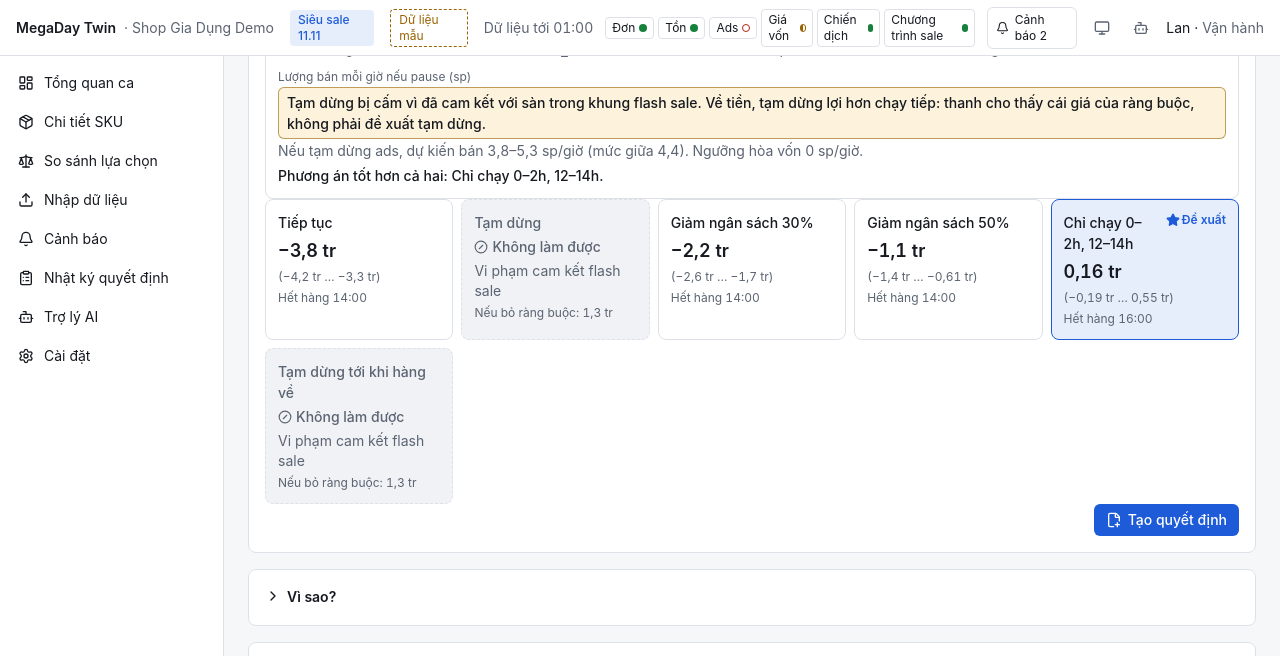
it: Compare screen · CD002 on 11.11 (API snapshot fixture) › decision form is disabled in fixture mode with the reason shown
The width and height of the screenshot is (1280, 656).
(page scrolled)
Click the button "Tạo quyết định": (1166, 520) [1094, 504, 1239, 536]
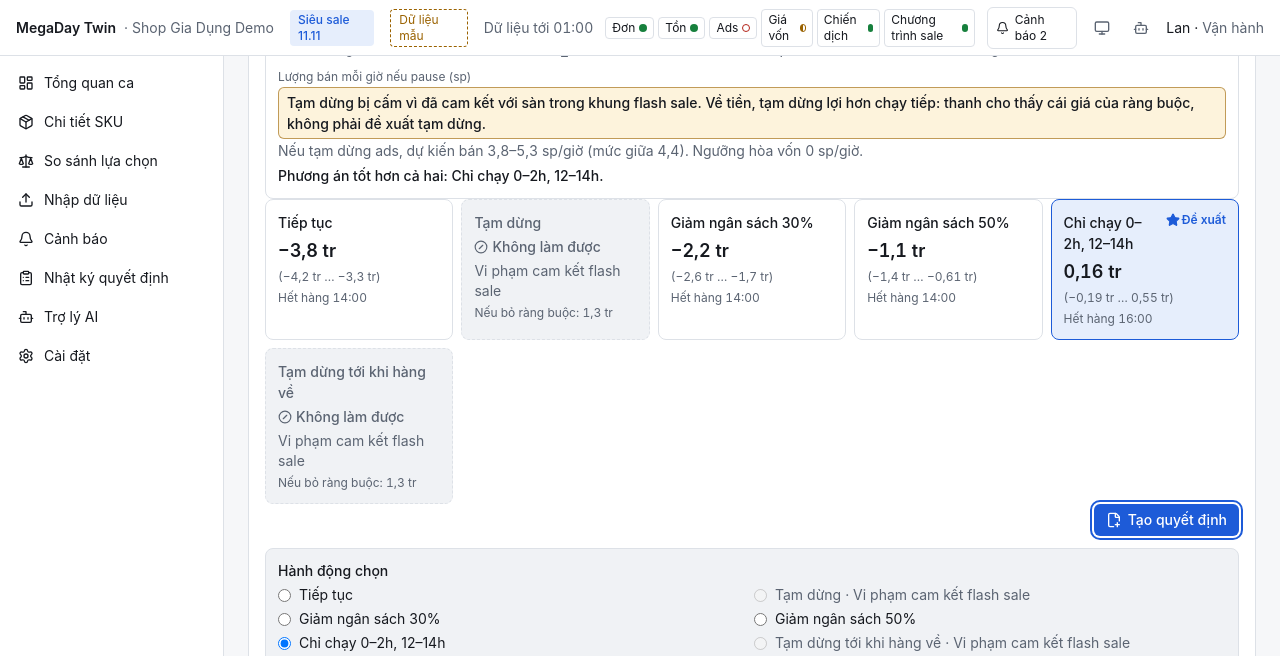
Now the radio button labelled "Tạm dừng · Vi phạm cam kết flash sale" is disabled, box [754, 589, 767, 602]
Now the radio button labelled "Chỉ chạy 0–2h, 12–14h" is checked, box [278, 637, 291, 650]
